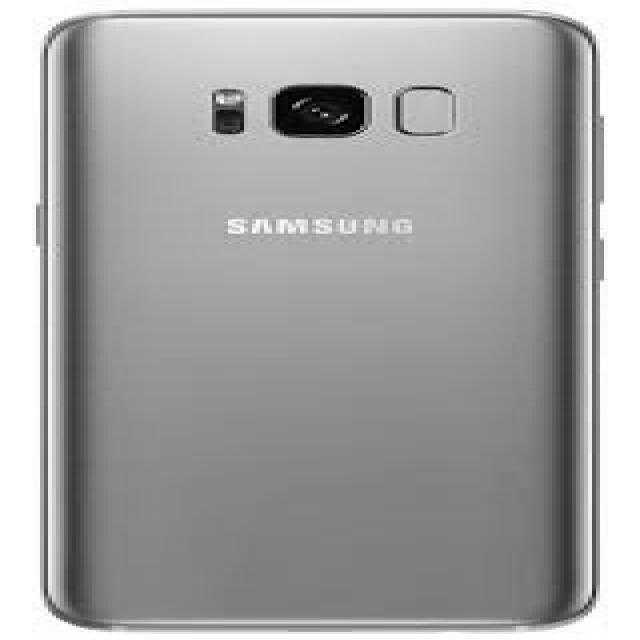fake: (38, 10, 602, 632)
